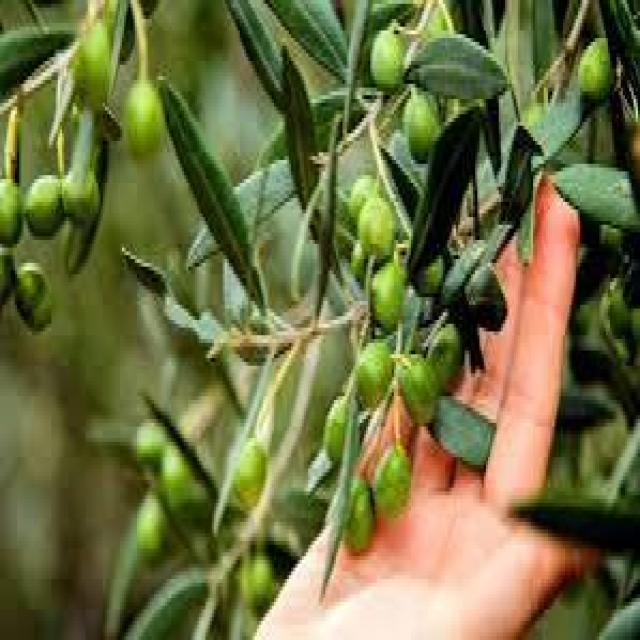Healthy: (122, 80, 163, 154), (375, 442, 409, 514), (355, 339, 392, 404), (24, 175, 62, 236), (357, 194, 394, 255), (15, 263, 49, 328), (578, 38, 612, 99), (370, 27, 402, 88)
